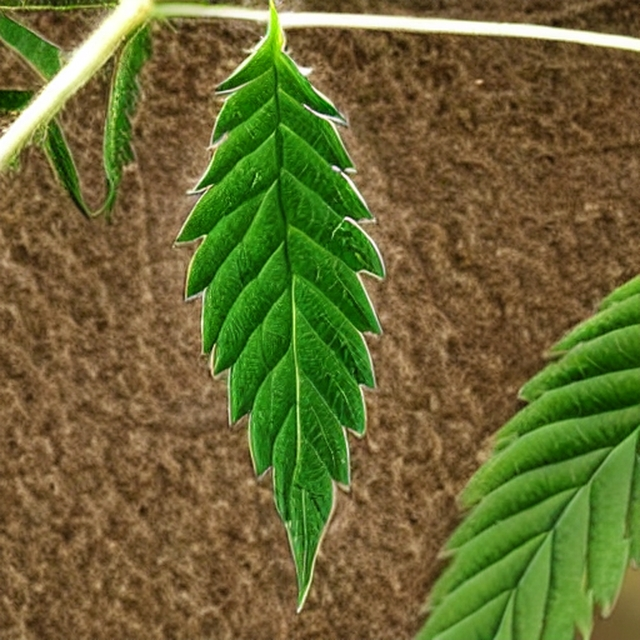Marijuana Leaf: (172, 0, 387, 613), (400, 252, 639, 639)
